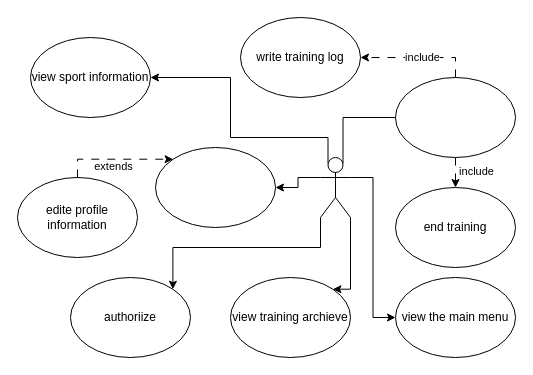
This 533x375 diagram has some shape labels left out. The box of each missing label's shape, as (x1, y1, x2, y2) in pixels:
start empty training: (394, 76, 516, 158)
User: (320, 156, 350, 218)
view profile: (154, 146, 276, 228)
